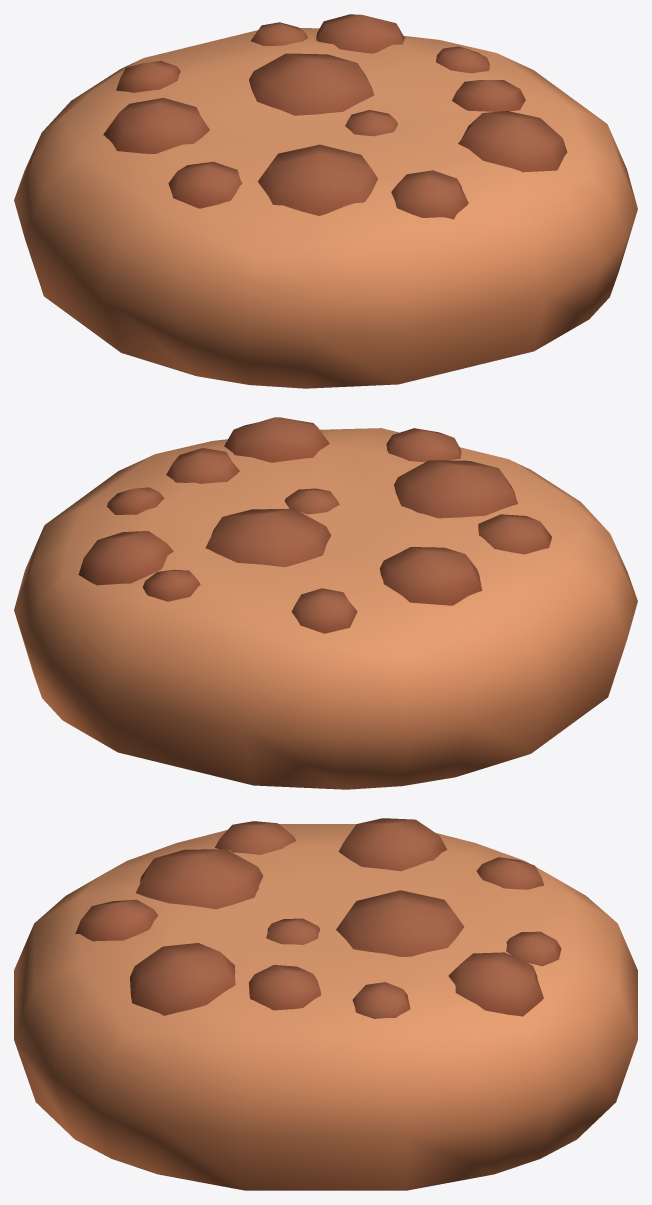
File: cookie.obj
The picture shows the model from 3 angles, top to bottom: view 1: azimuth 30°, elevation 25°; view 2: azimuth 150°, elevation 25°; view 3: azimuth 270°, elevation 25°; orthographic projection. The views are drawn at different scales.
Visible parts, largest first — view 1: cookie; view 2: cookie; view 3: cookie.
Boxes of the visible parts, x1,y1,x2,y2 form: cookie: (14, 14, 637, 388); cookie: (14, 417, 637, 789); cookie: (14, 818, 637, 1190).
Size of the model in its own units: 0.492 by 0.1635 by 0.4918.
1 material, 1 textured.
